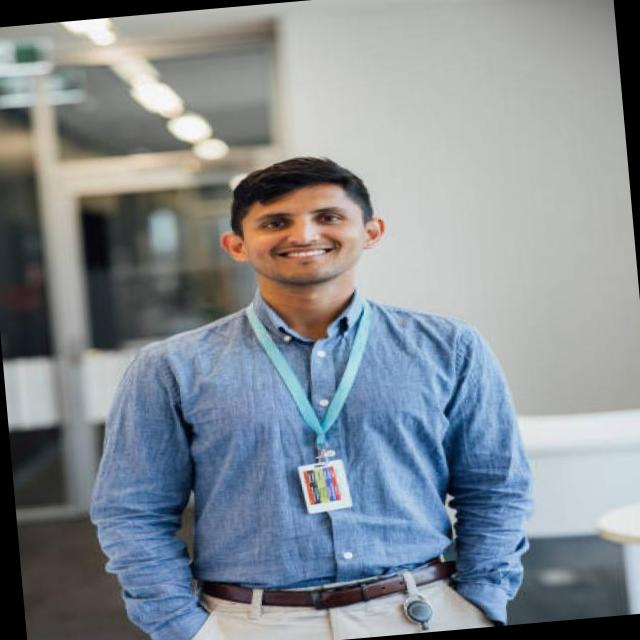id_card: (248, 290, 381, 511)
